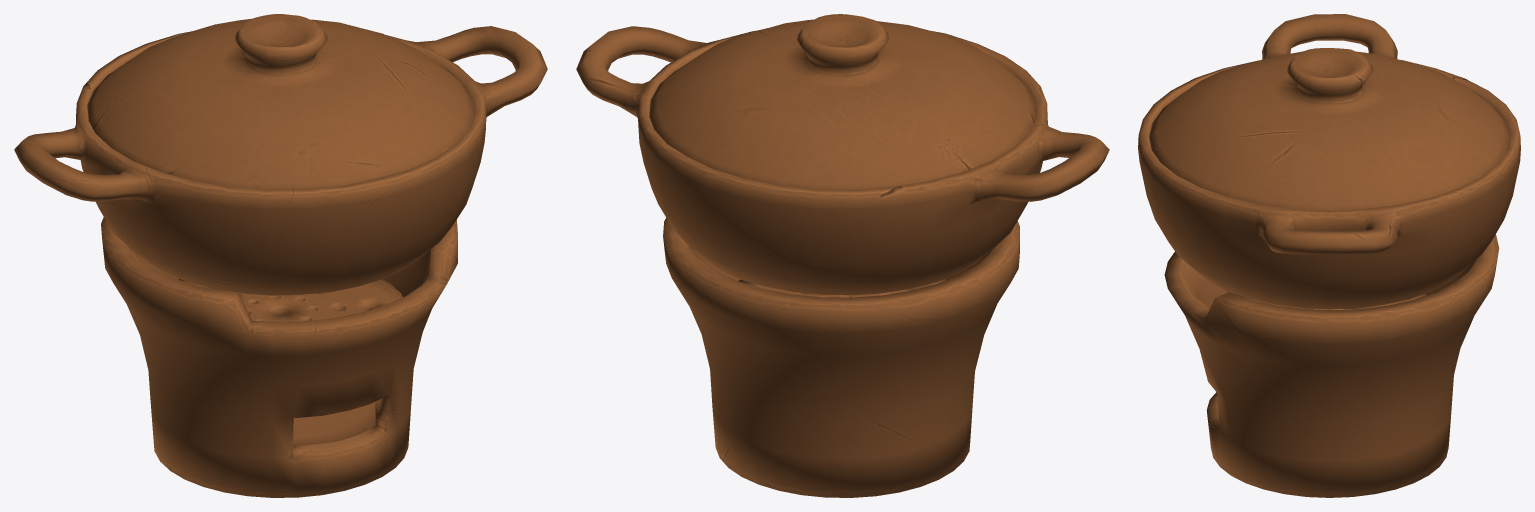
File: clay cooking pot.fbx
The picture shows the model from 3 angles, left to right: view 1: azimuth 30°, elevation 25°; view 2: azimuth 150°, elevation 25°; view 3: azimuth 270°, elevation 25°; orthographic projection. The views are drawn at different scales.
Parts seen in each view (by area): view 1: forno low, tampa low, panela low, bisnaga low; view 2: forno low, tampa low, panela low, bisnaga low; view 3: forno low, tampa low, panela low.
Part boxes in pixels (<box>): forno low: <box>101,217,457,497</box>; tampa low: <box>87,14,474,189</box>; panela low: <box>14,26,547,295</box>; bisnaga low: <box>178,279,402,321</box>; forno low: <box>663,218,1019,497</box>; tampa low: <box>649,14,1036,189</box>; panela low: <box>576,26,1109,295</box>; bisnaga low: <box>738,279,946,297</box>; forno low: <box>1164,234,1499,497</box>; tampa low: <box>1149,48,1510,210</box>; panela low: <box>1138,14,1520,309</box>.
Size of the model in its own units: 90.65 by 71.67 by 64.4.
Materials: 1 (1 with a texture image).
